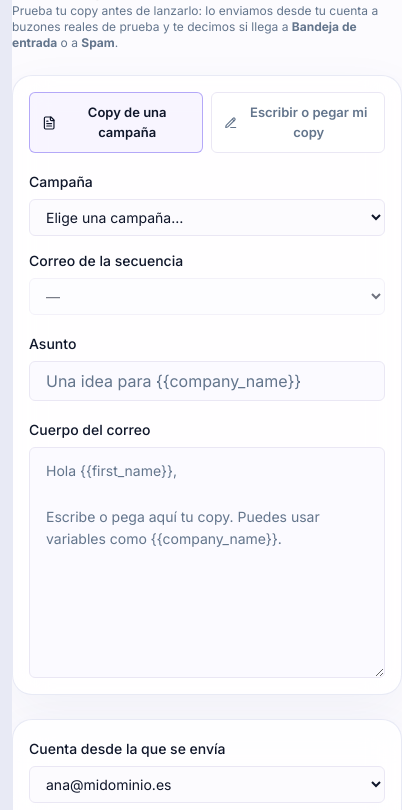
Test case: Entregabilidad (cliente) › resultado: veredicto y desglose por proveedor, sin ninguna dirección de buzón
The width and height of the screenshot is (402, 810).
Later steps or results of the test are not shown.
Click the button "Escribir o pegar mi copy" at (298, 122), box [211, 92, 385, 153]
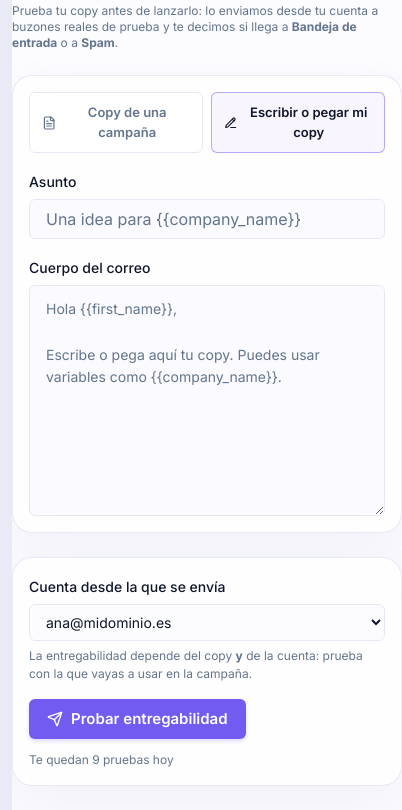
Type "Hola" into the field labelled "Asunto" at (207, 219), box [29, 199, 385, 239]
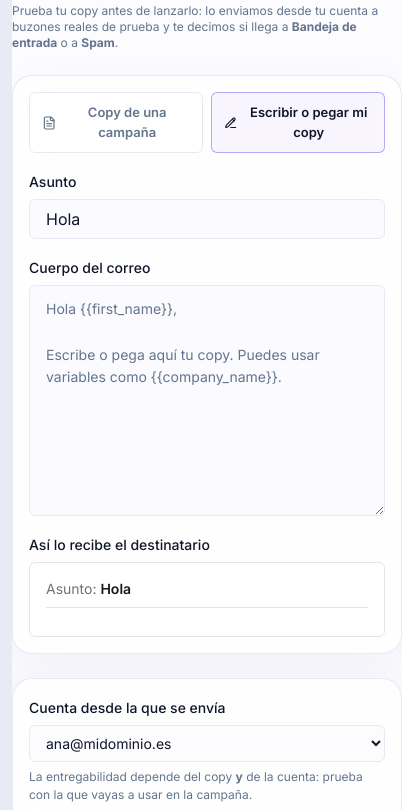
Replace the text in the text box labelled "Cuerpo del correo" with "Un texto de prueba suficientemente largo para no disparar el aviso de correo demasiado corto en la revisión." at (207, 400), box [29, 285, 385, 516]
(page scrolled)
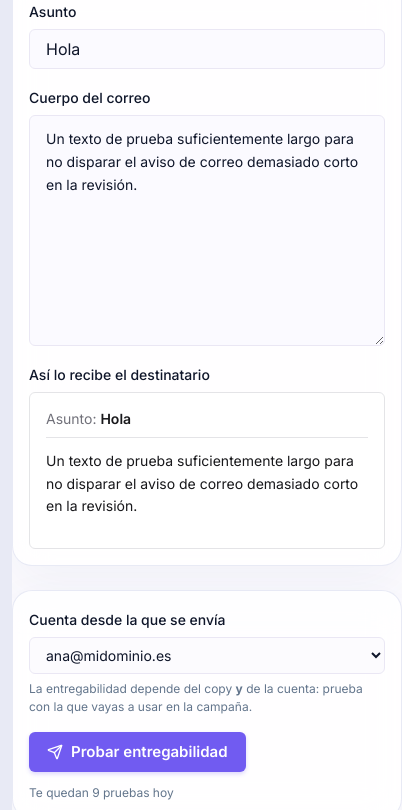
Click the button "Probar entregabilidad" at (137, 752), box [29, 732, 246, 772]
Wait 41000 ms
(page scrolled)
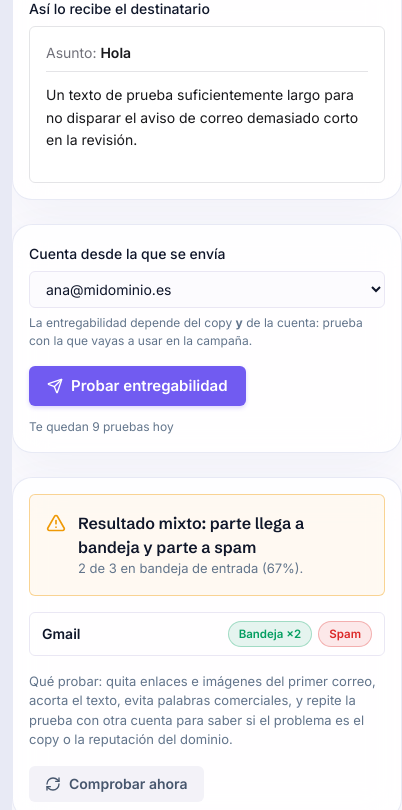
Now the text "Resultado mixto: parte llega a bandeja y parte a spam" is shown, box [78, 513, 304, 557]
Now the text "2 de 3 en bandeja de entrada (67%)." is shown, box [78, 560, 303, 576]
Now the text "Bandeja ×2" is shown, box [228, 620, 312, 646]
